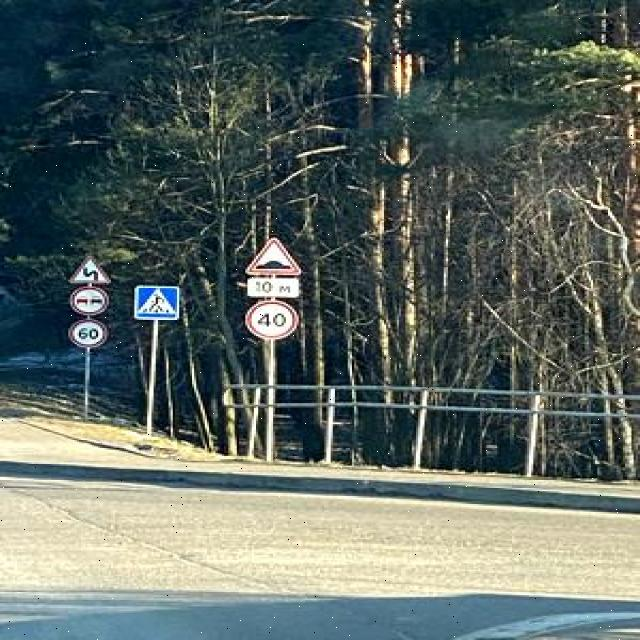speed limit 40: (244, 302, 300, 339)
speed limit 60: (66, 321, 108, 349)
